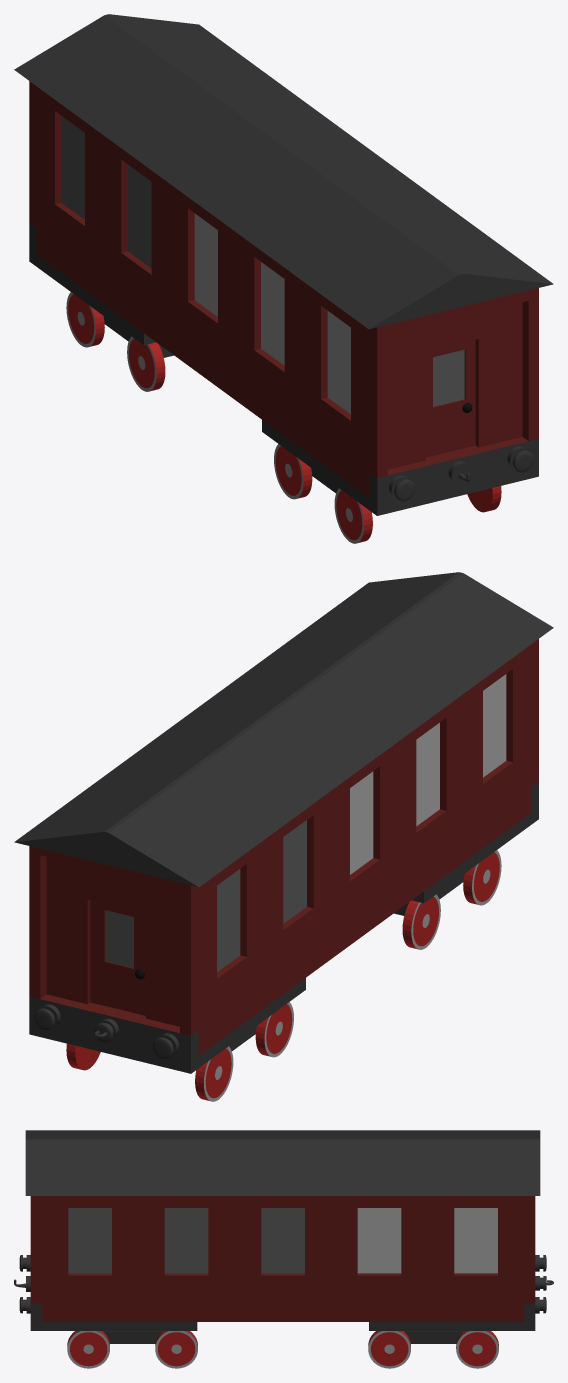
File: Residential wagon 3.fbx
3 views of the same model, one above another, from view 1: azimuth 30°, elevation 25°; view 2: azimuth 150°, elevation 25°; view 3: azimuth 270°, elevation 25° (orthographic). The views are drawn at different scales.
Parts seen in each view (by area): view 1: Residential wagon; view 2: Residential wagon; view 3: Residential wagon.
Boxes of the visible parts, box(x1,y1,x2,y2) form: Residential wagon: box(14, 14, 553, 543); Residential wagon: box(14, 572, 553, 1101); Residential wagon: box(14, 1130, 553, 1368).
Size of the model in its own units: 404 by 589 by 1408.
